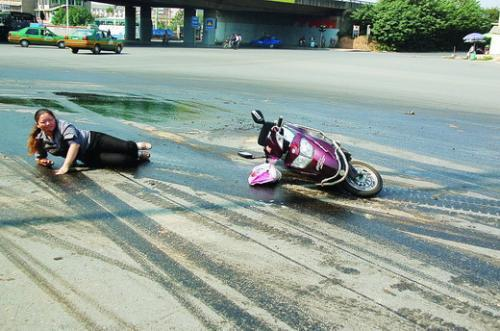Fall-Detected: (19, 103, 155, 179)
